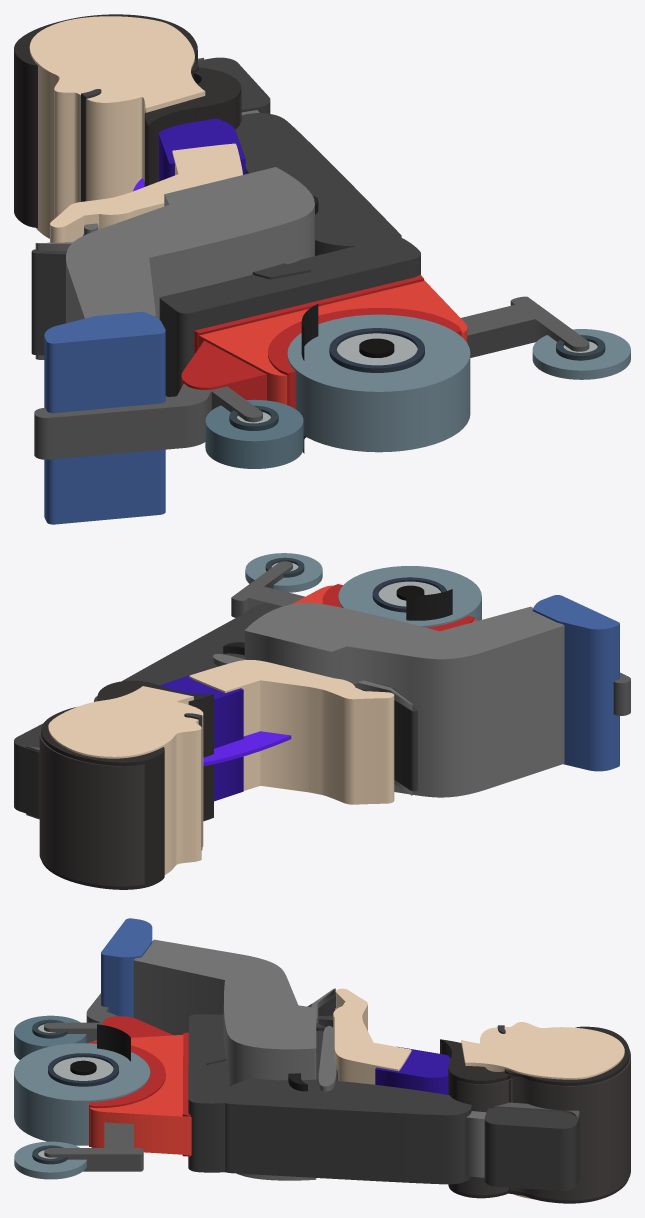
File: emoji_u1f469_1f3fb_200d_1f9bc.glb
3 renders of one model, top to bottom at view 1: azimuth 30°, elevation 25°; view 2: azimuth 150°, elevation 25°; view 3: azimuth 270°, elevation 25°, orthographic. The views are drawn at different scales.
Visible parts, largest first — view 1: emoji_u1f469_1f3fb_200d_1f9bc; view 2: emoji_u1f469_1f3fb_200d_1f9bc; view 3: emoji_u1f469_1f3fb_200d_1f9bc.
Part boxes in pixels (left/top/right/bottom): emoji_u1f469_1f3fb_200d_1f9bc: left=14, top=14, right=630, bottom=524; emoji_u1f469_1f3fb_200d_1f9bc: left=14, top=553, right=630, bottom=889; emoji_u1f469_1f3fb_200d_1f9bc: left=14, top=918, right=630, bottom=1203.
Bounding box in the file's own units: 0.0242 × 0.0078 × 0.0324.
